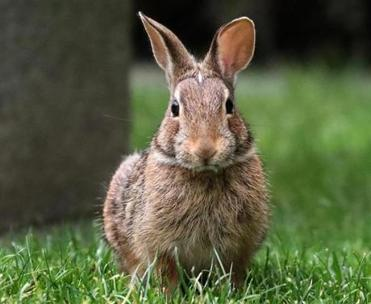bunny: (99, 8, 277, 300)
